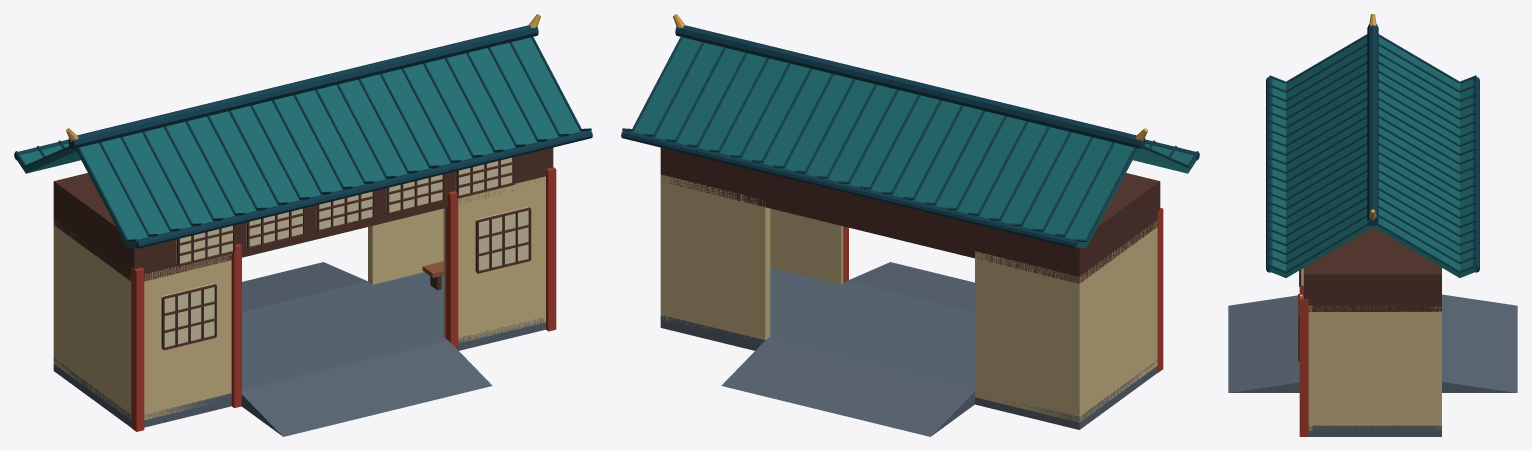
The model's file is gatehouse.glb.
3 views of the same model, side by side, from view 1: azimuth 30°, elevation 25°; view 2: azimuth 150°, elevation 25°; view 3: azimuth 270°, elevation 25° (orthographic). The views are drawn at different scales.
Parts seen in each view (by area): view 1: CP_Roof, CP_Wall_Front, CP_Floor, CP_Wall_Left, CP_Wall_Back; view 2: CP_Roof, CP_Floor, CP_Wall_Back, CP_Wall_Left, CP_Wall_Front, CP_Wall_Right; view 3: CP_Roof, CP_Floor, CP_Wall_Right, CP_Wall_Front, CP_Wall_Back.
Part boxes in pixels (x1,y1,x2,y2): CP_Roof: (14,14,592,281); CP_Wall_Front: (129,157,556,431); CP_Floor: (53,262,545,436); CP_Wall_Left: (53,218,131,418); CP_Wall_Back: (53,208,443,362); CP_Roof: (621,14,1199,283); CP_Floor: (660,262,1157,436); CP_Wall_Back: (660,174,1080,422); CP_Wall_Left: (1071,220,1157,422); CP_Wall_Front: (770,208,1163,372); CP_Wall_Right: (660,175,669,321); CP_Roof: (1266,14,1479,311); CP_Floor: (1228,294,1517,436); CP_Wall_Right: (1308,305,1441,429); CP_Wall_Front: (1298,268,1312,436); CP_Wall_Back: (1433,306,1441,430).
Bounding box in the file's own units: 13.6 × 7.61 × 8.4.
